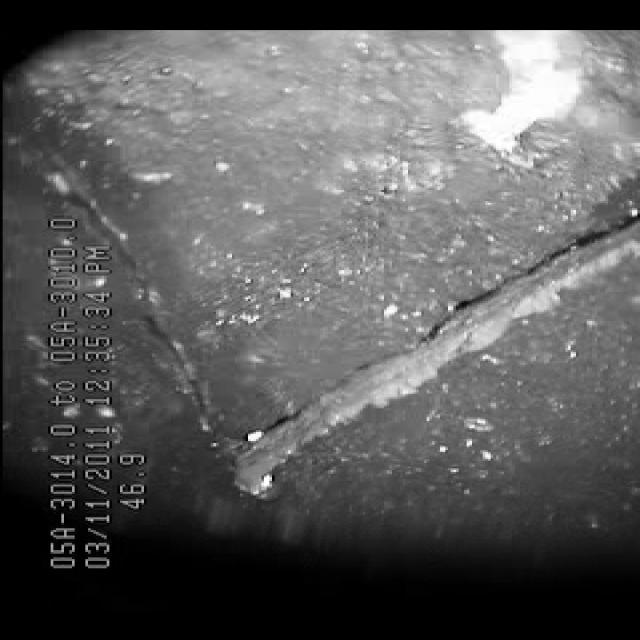Crack: (175, 202, 603, 502)
